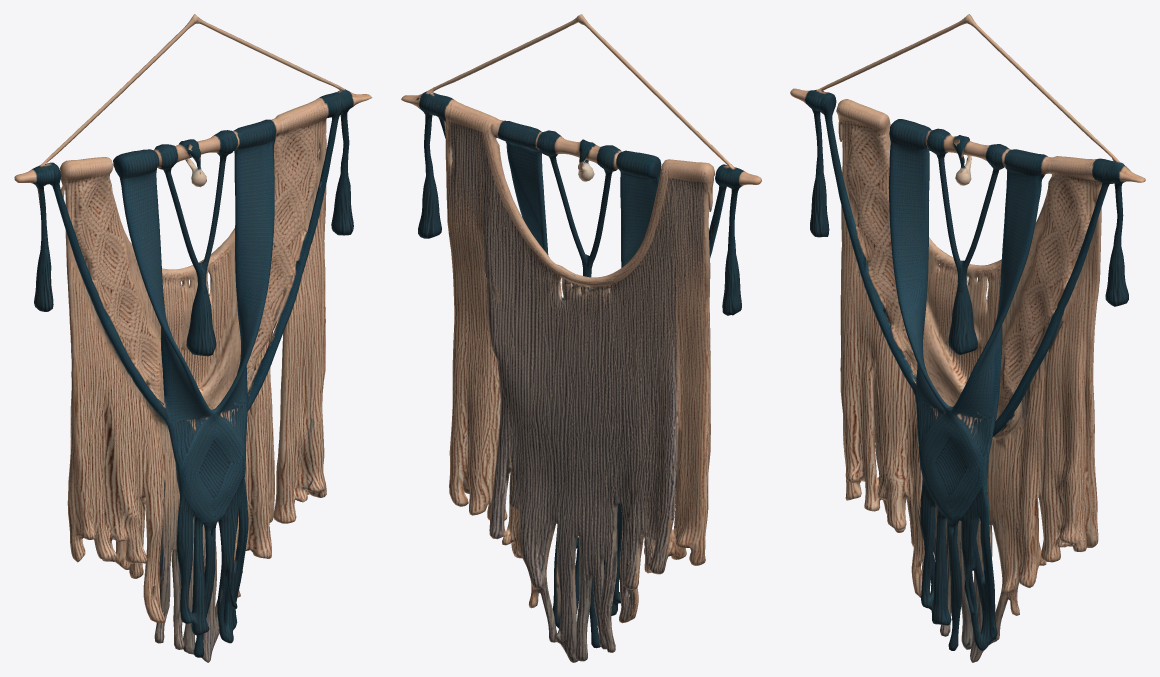
Rendered from wall-hanging.glb.
3 renders of one model, left to right at view 1: azimuth 30°, elevation 25°; view 2: azimuth 150°, elevation 25°; view 3: azimuth 330°, elevation 25°, orthographic.
Parts seen in each view (by area): view 1: tripo_node_9cfb8670-0846-4cee-980d-272ea5424083; view 2: tripo_node_9cfb8670-0846-4cee-980d-272ea5424083; view 3: tripo_node_9cfb8670-0846-4cee-980d-272ea5424083.
Part boxes in pixels (x1,y1,x2,y2): tripo_node_9cfb8670-0846-4cee-980d-272ea5424083: (14,14,372,662); tripo_node_9cfb8670-0846-4cee-980d-272ea5424083: (401,14,761,662); tripo_node_9cfb8670-0846-4cee-980d-272ea5424083: (790,14,1145,662).
Bounding box in the file's own units: 0.5629 × 0.9786 × 0.0935.
Materials: 1 (1 with a texture image).
